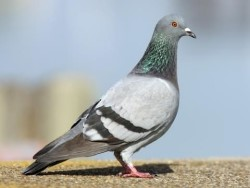pigeon: (21, 12, 198, 179)
